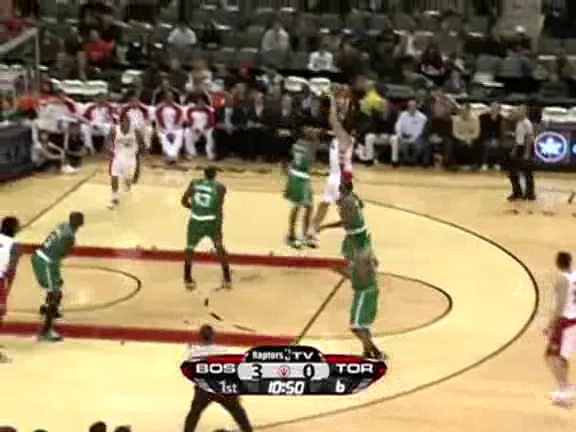person: (336, 189, 370, 270), (335, 189, 369, 270), (337, 189, 371, 270), (336, 188, 370, 269), (336, 190, 370, 271)
target_negative: (9, 235, 192, 368), (120, 322, 325, 418), (324, 37, 379, 274), (162, 330, 450, 345), (496, 14, 515, 149), (364, 420, 545, 425)
